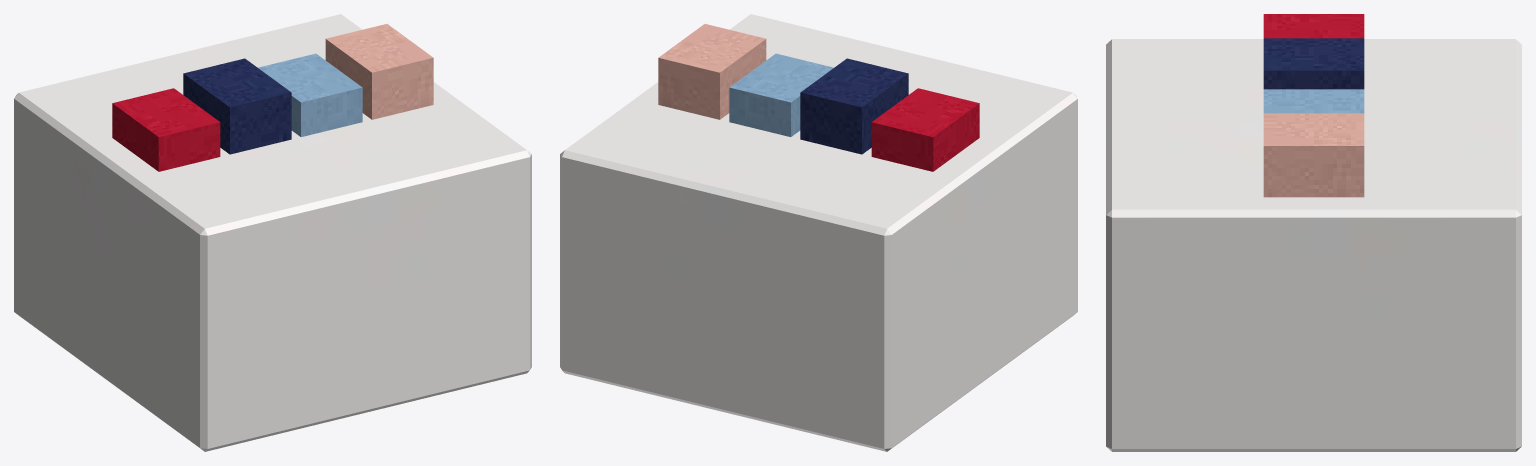
3 renders of one model, left to right at view 1: azimuth 30°, elevation 25°; view 2: azimuth 150°, elevation 25°; view 3: azimuth 270°, elevation 25°, orthographic. The views are drawn at different scales.
Visible parts, largest first — view 1: Decor_display_cube_stacks; view 2: Decor_display_cube_stacks; view 3: Decor_display_cube_stacks.
Boxes of the visible parts, <box> form: Decor_display_cube_stacks: <box>14,14,531,451</box>; Decor_display_cube_stacks: <box>560,14,1077,451</box>; Decor_display_cube_stacks: <box>1106,14,1521,451</box>.
Size of the model in its own units: 1.4 by 1.09 by 1.4.
5 materials, 5 textured.
